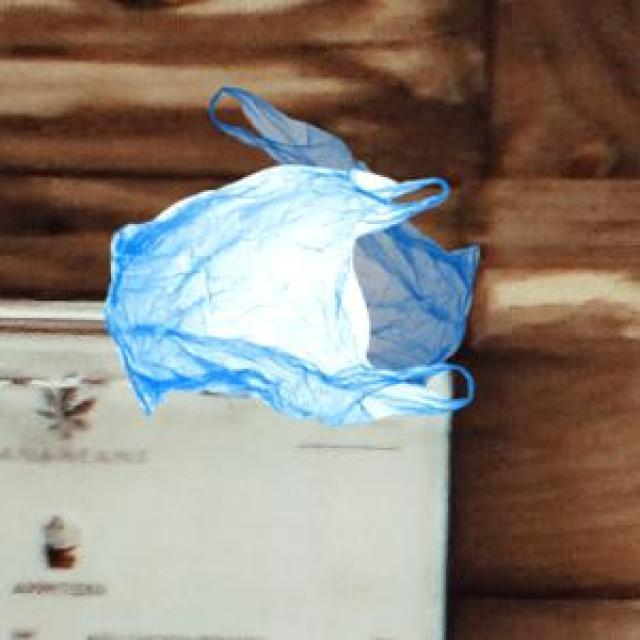waste: (106, 88, 479, 424)
